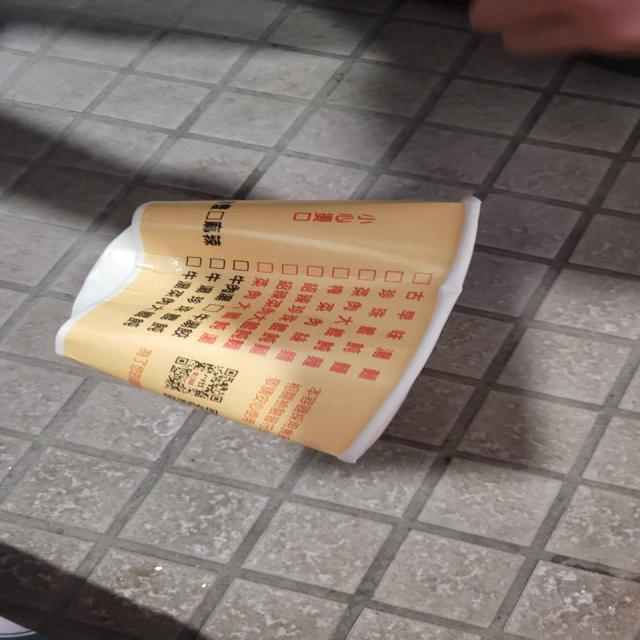Paper bowl: (48, 173, 494, 468)
